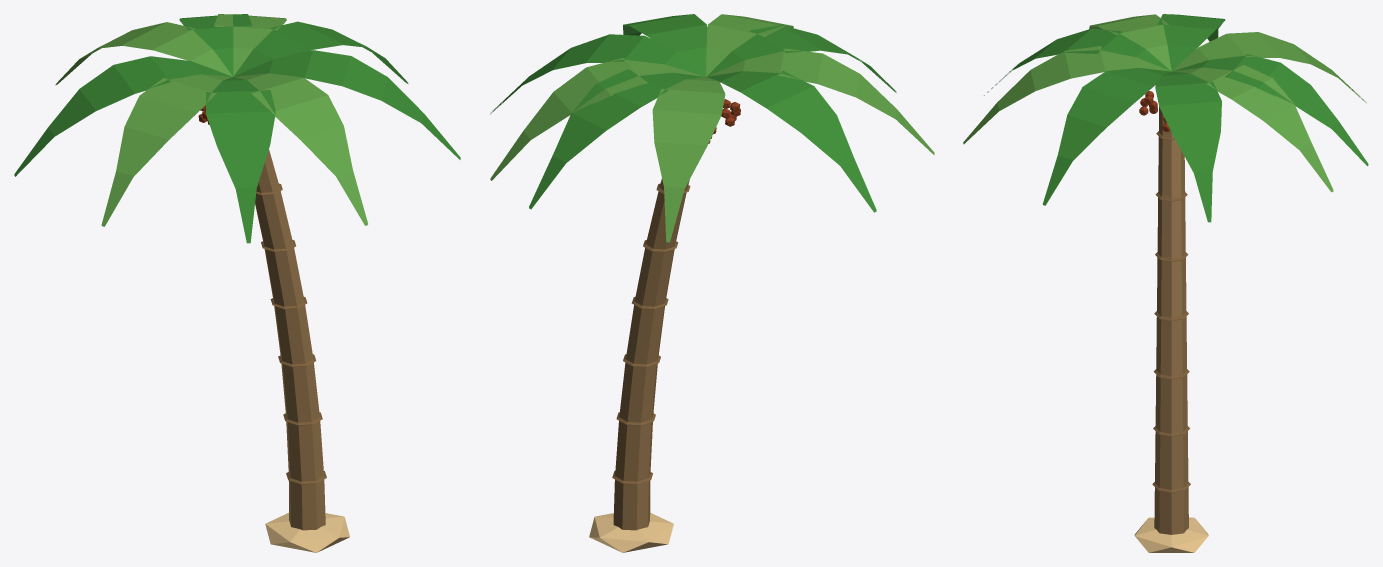
The model's file is map3_palm_date_b_v01.glb.
The picture shows the model from 3 angles, left to right: view 1: azimuth 30°, elevation 25°; view 2: azimuth 150°, elevation 25°; view 3: azimuth 270°, elevation 25°; orthographic projection. The views are drawn at different scales.
Visible parts, largest first — view 1: palm_date; view 2: palm_date; view 3: palm_date.
Boxes of the visible parts, x1=… form: palm_date: x1=14, y1=14, x2=460, y2=552; palm_date: x1=490, y1=14, x2=934, y2=552; palm_date: x1=963, y1=14, x2=1368, y2=552.
Size of the model in its own units: 4.71 by 5.78 by 4.65.
